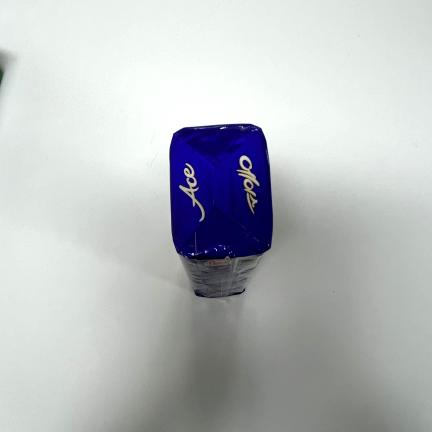cracker_ace: (169, 124, 273, 297)
